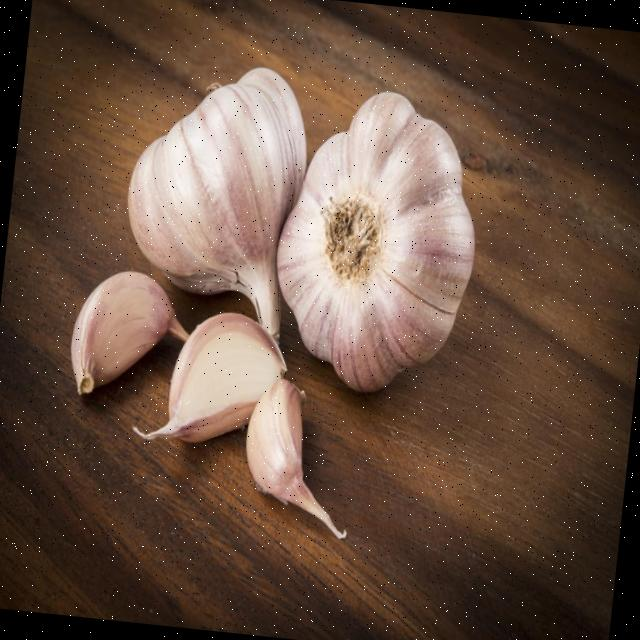garlic: (276, 91, 473, 390), (127, 67, 305, 339), (133, 312, 285, 440), (245, 378, 345, 537), (70, 270, 188, 393)
